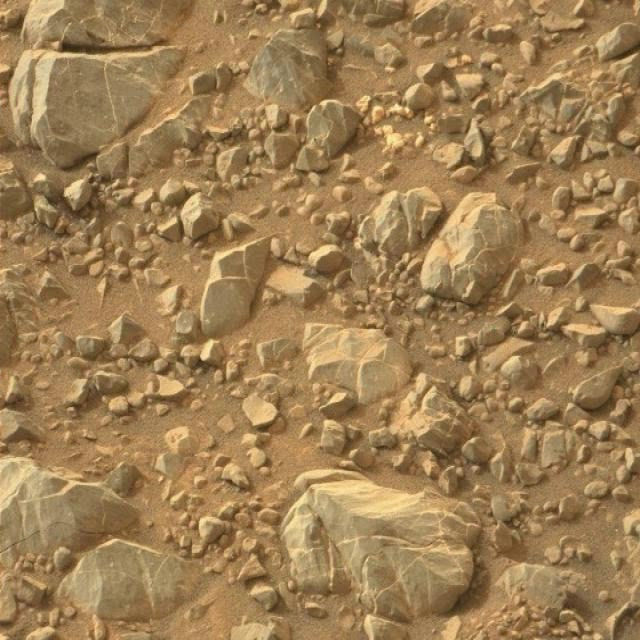rock: (281, 483, 479, 627), (10, 45, 182, 167), (0, 458, 140, 565), (421, 193, 523, 304), (59, 540, 190, 621), (303, 324, 413, 404), (23, 0, 188, 51), (244, 27, 333, 110), (200, 237, 270, 338), (555, 622, 593, 640), (543, 611, 567, 635), (0, 611, 20, 628)
